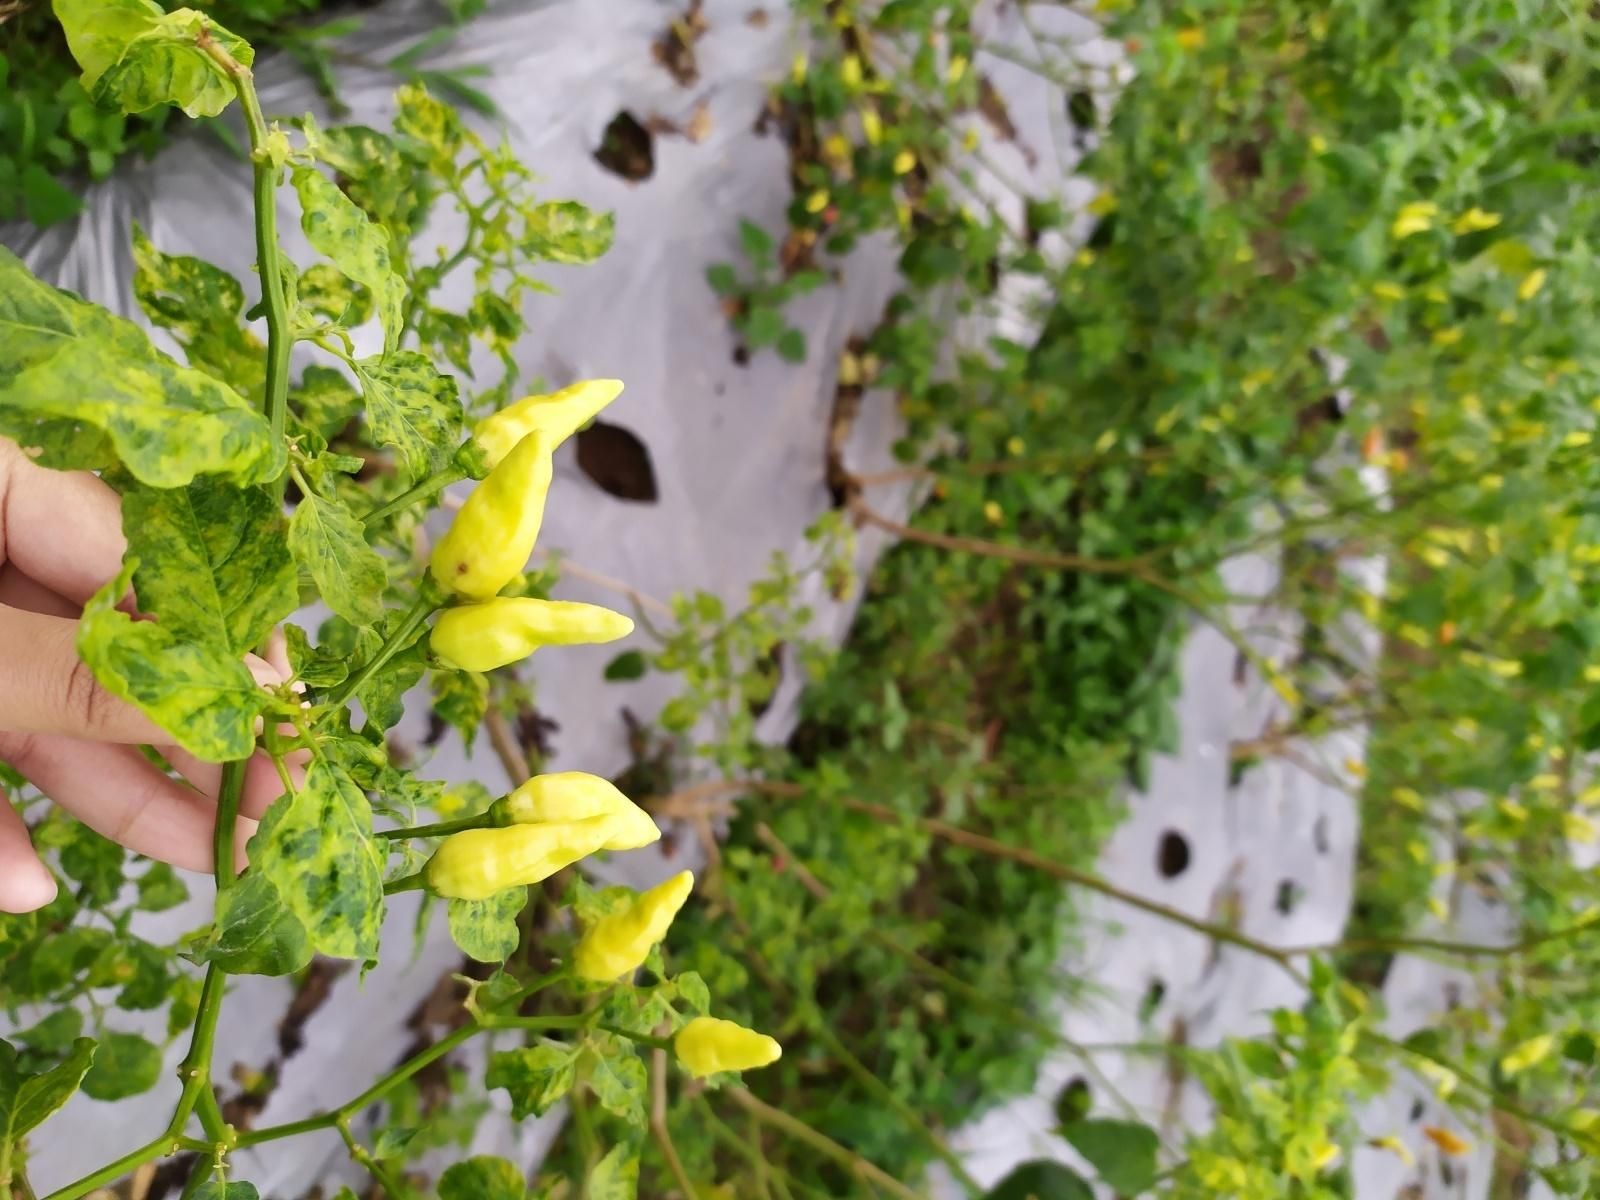cabai_normal: (425, 812, 621, 899), (465, 378, 626, 476), (429, 596, 634, 672), (575, 868, 695, 982), (507, 771, 662, 852), (673, 1016, 782, 1078)
lalat_buah: (426, 429, 555, 609)
